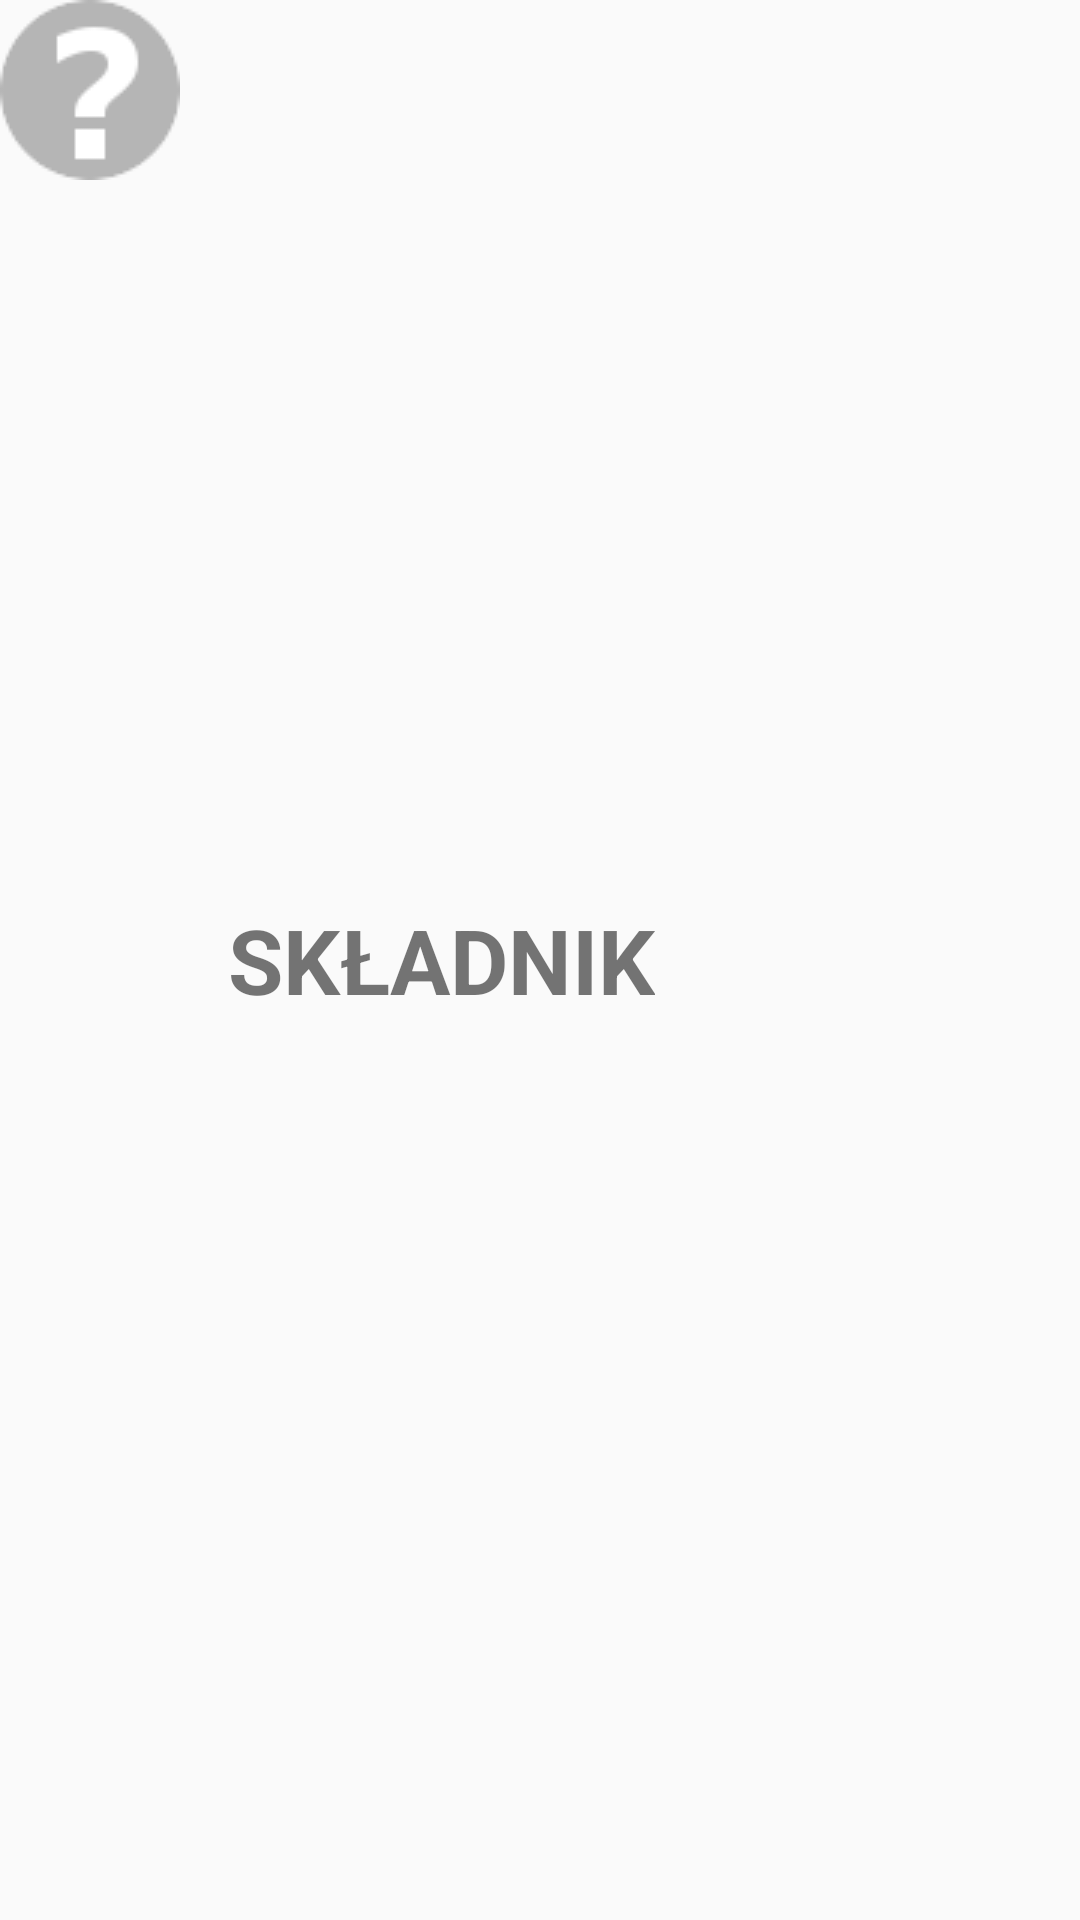

Icon click points for this 1080×1920 phone screenshot, format (x,y):
unknown: (90,90)
